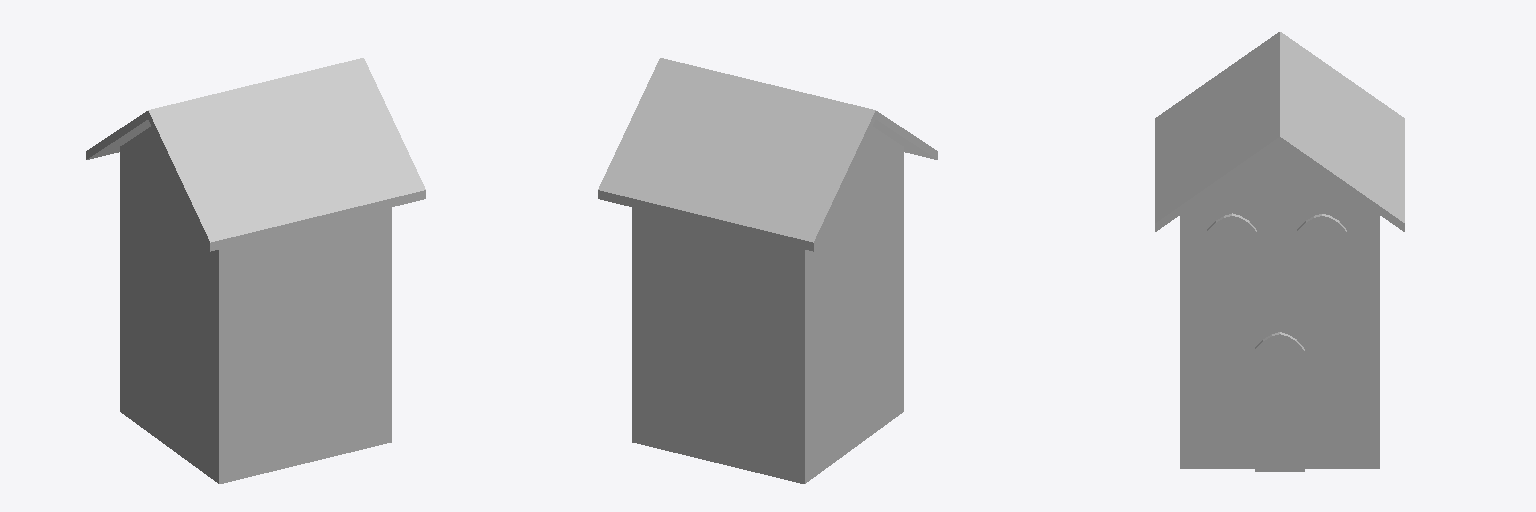
The model's file is House.obj.
3 renders of one model, left to right at view 1: azimuth 30°, elevation 25°; view 2: azimuth 150°, elevation 25°; view 3: azimuth 270°, elevation 25°, orthographic.
Parts seen in each view (by area): view 1: Cube.001; view 2: Cube.001; view 3: Cube.001.
Boxes of the visible parts, x1,y1,x2,y2 form: Cube.001: [86, 58, 425, 483]; Cube.001: [598, 58, 937, 483]; Cube.001: [1155, 32, 1404, 471].
Size of the model in its own units: 5 by 7.62 by 5.